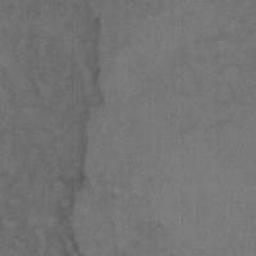Water spot: (0, 0, 105, 256)
